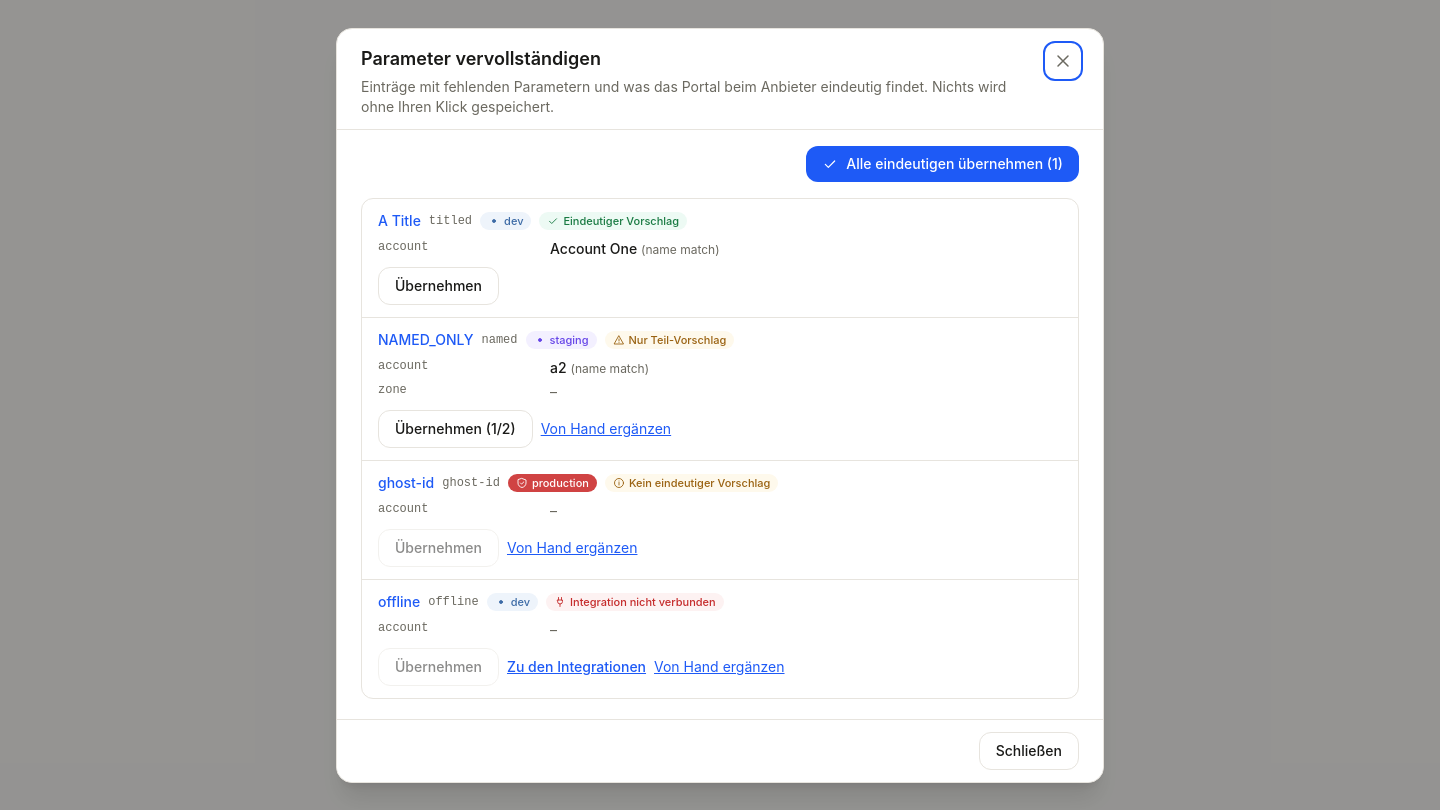
Test case: CompleteParamsDialog › applies one suggestion, reports what is still missing and hides the actions
expect the link "A Title" is shown: met, box [378,210,421,230]
Click the button "Übernehmen (1/2)". click: (455, 428)
box: [378,410,533,448]
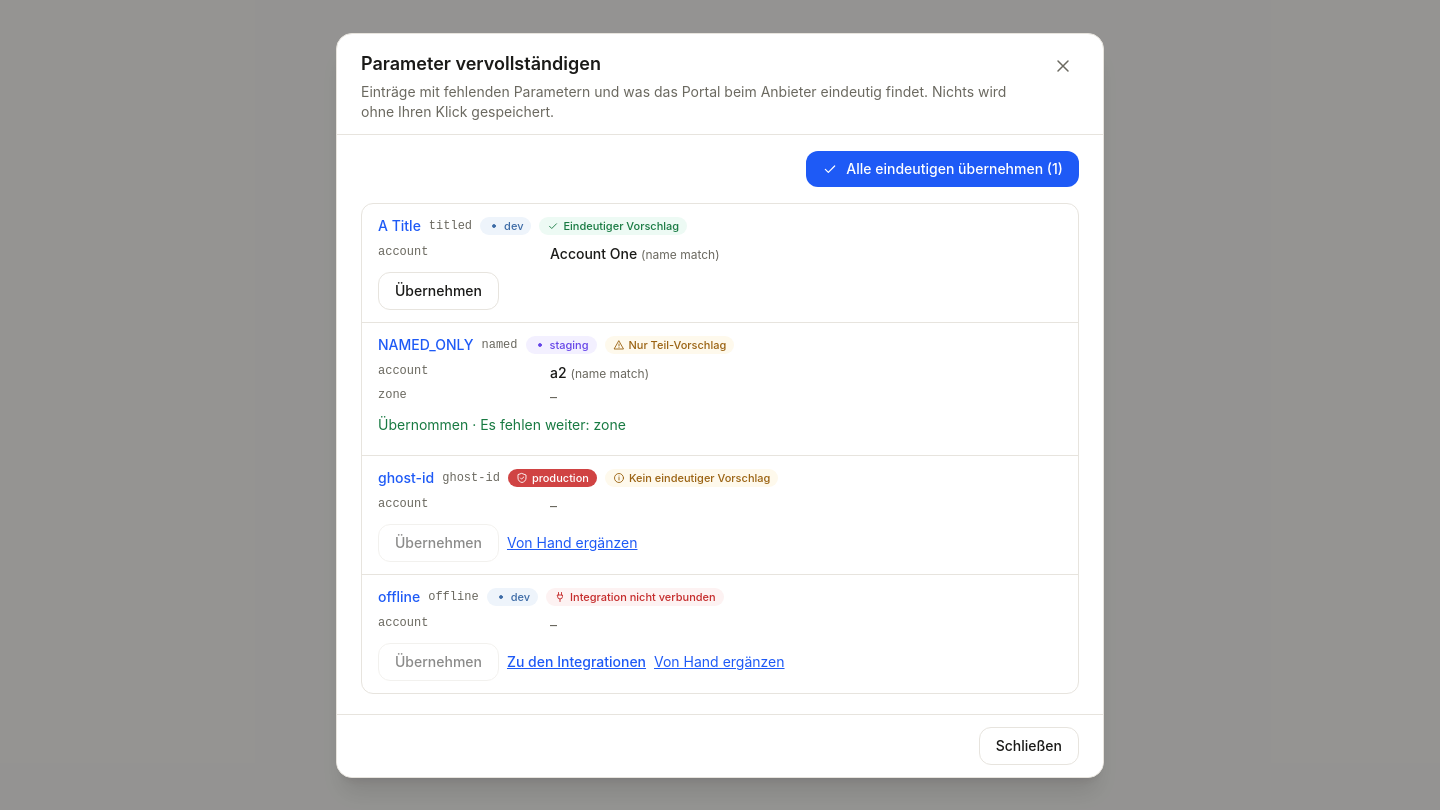
Click the button "Übernehmen" below "A Title". click: (438, 290)
box: [378,272,499,310]
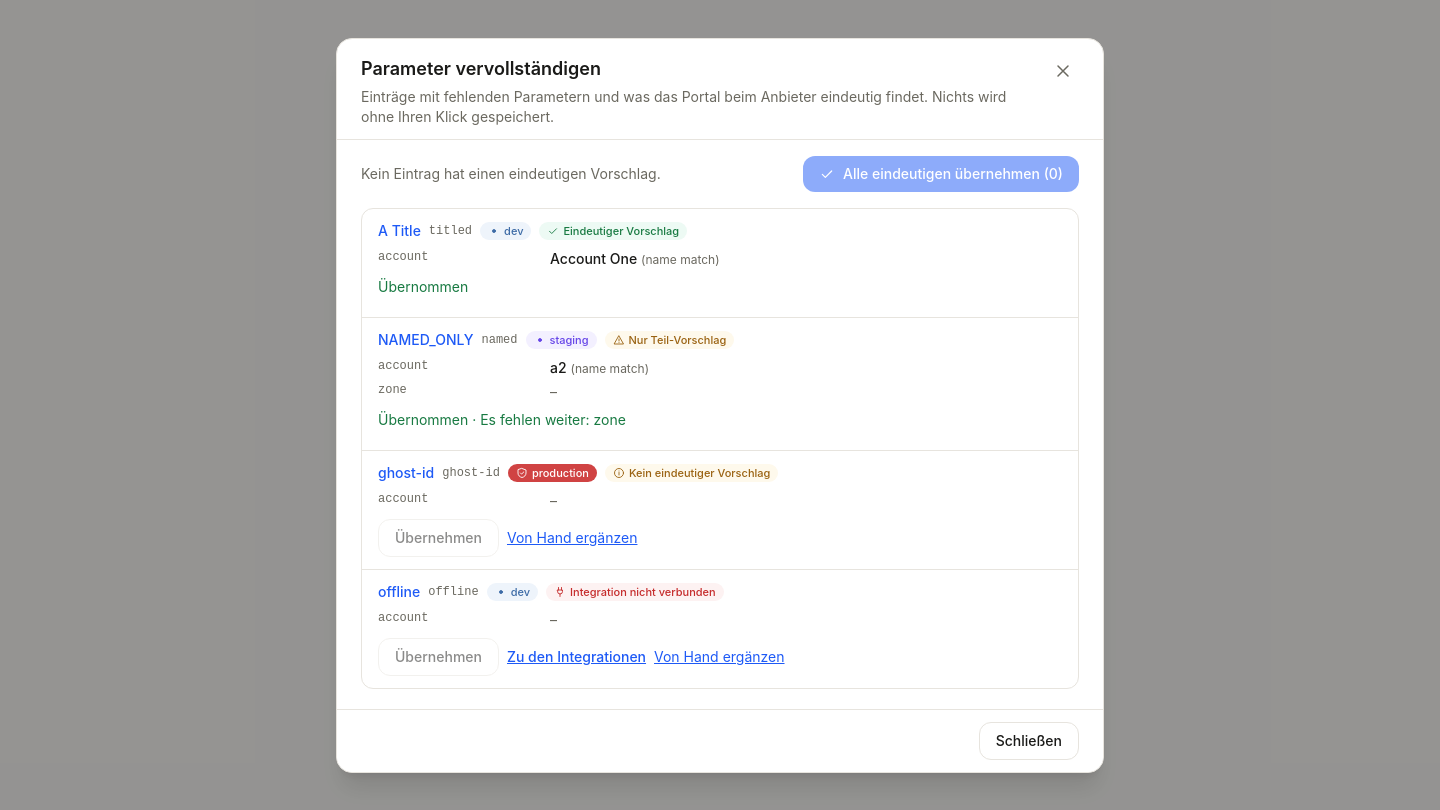
expect the text "Kein Eintrag hat einen eindeutigen Vorschlag." is shown: met, box [361,164,661,184]
expect the button "Alle eindeutigen übernehmen (0)" is disabled: met, box [803,156,1079,192]
